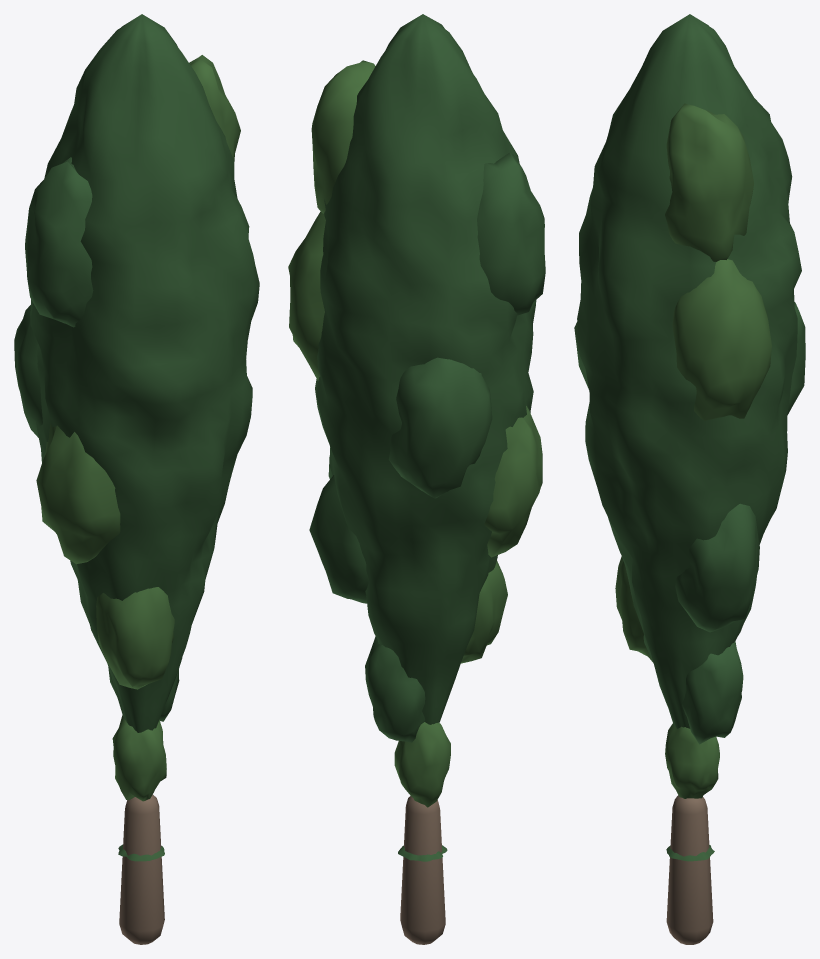
Rendered from tree_cypress.glb.
3 renders of one model, left to right at view 1: azimuth 30°, elevation 25°; view 2: azimuth 150°, elevation 25°; view 3: azimuth 270°, elevation 25°, orthographic.
Visible parts, largest first — view 1: tree_cypress; view 2: tree_cypress; view 3: tree_cypress.
Part boxes in pixels (x1,y1,x2,y2): tree_cypress: (14, 14, 259, 944); tree_cypress: (288, 14, 545, 944); tree_cypress: (574, 14, 805, 944).
Bounding box in the file's own units: 1.36 × 5.27 × 1.19.
